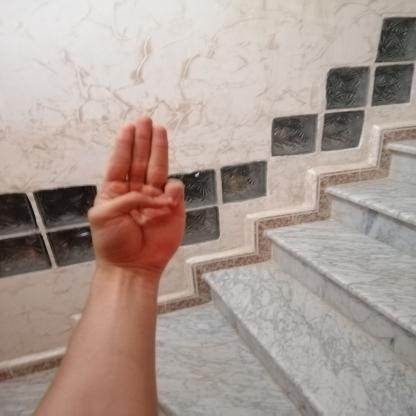THA: (73, 108, 197, 280)
